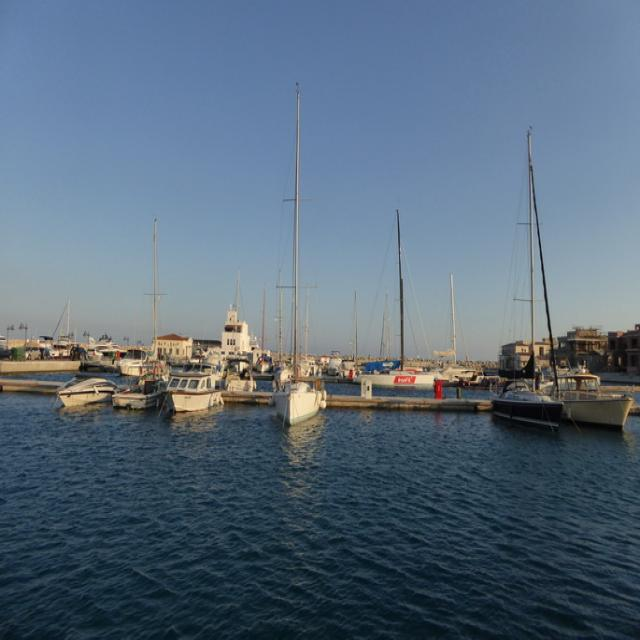passenger ship: (259, 370, 326, 453), (30, 362, 113, 426), (560, 340, 624, 420), (484, 364, 557, 431), (154, 364, 220, 412), (117, 363, 136, 407)
